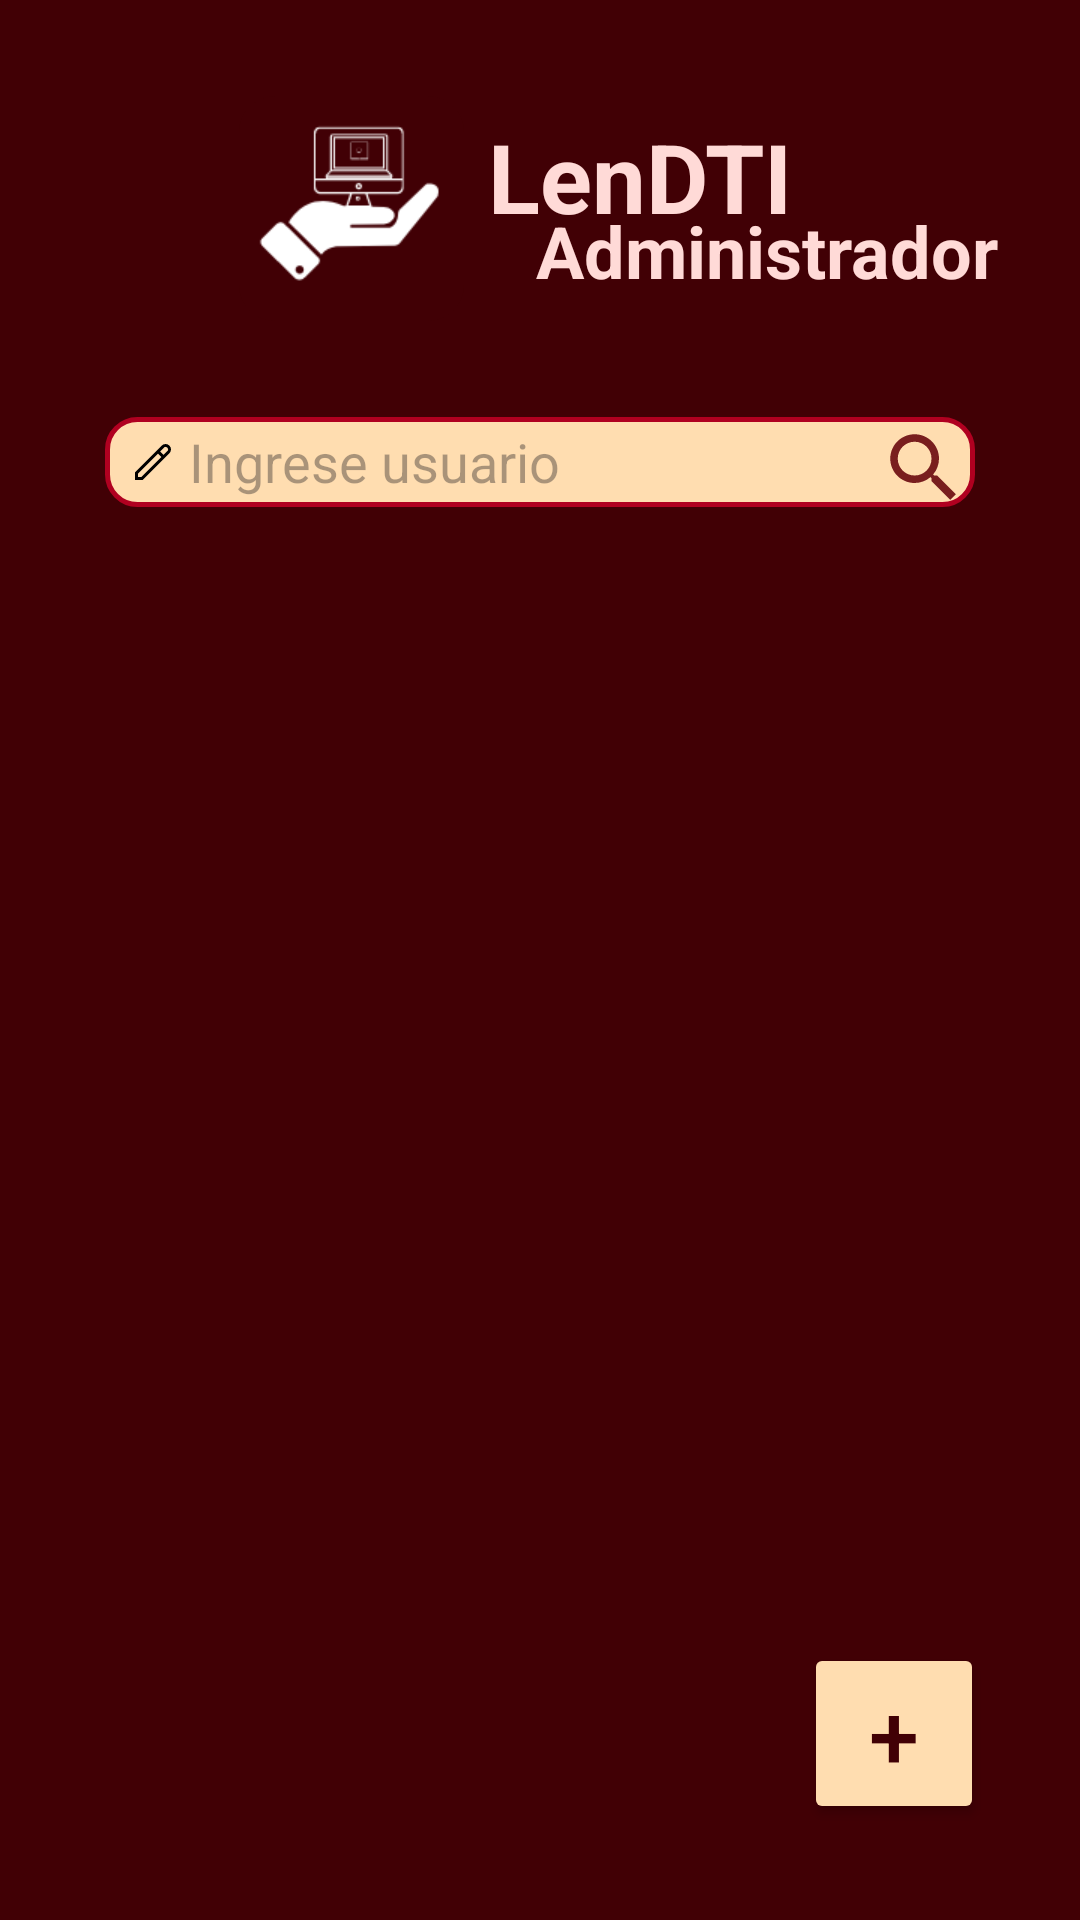

Screen size 1080px x 1920px. Icon name, then its box in pixels as box(x1, y1, x2, y2):
search: box(873, 417, 975, 507)
